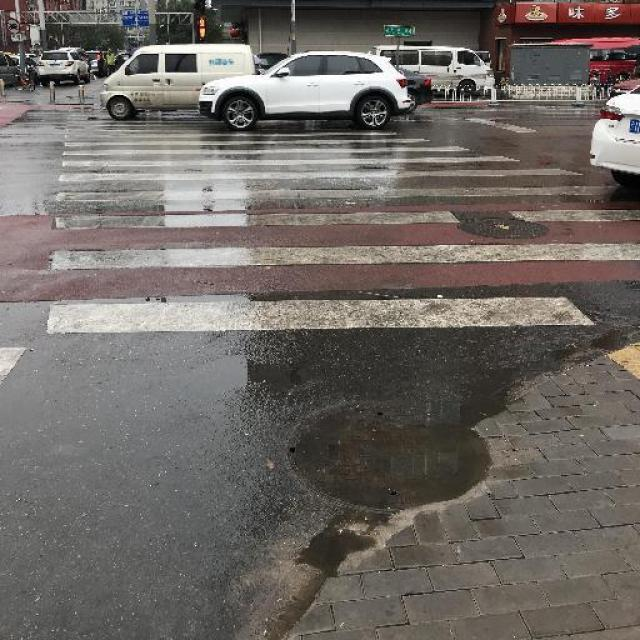crosswalk: (51, 111, 640, 334)
